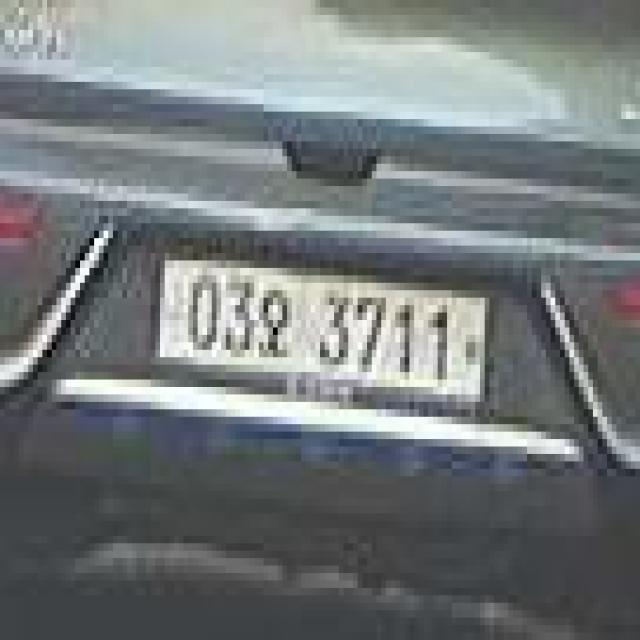illegal_plate: (155, 245, 492, 422)
